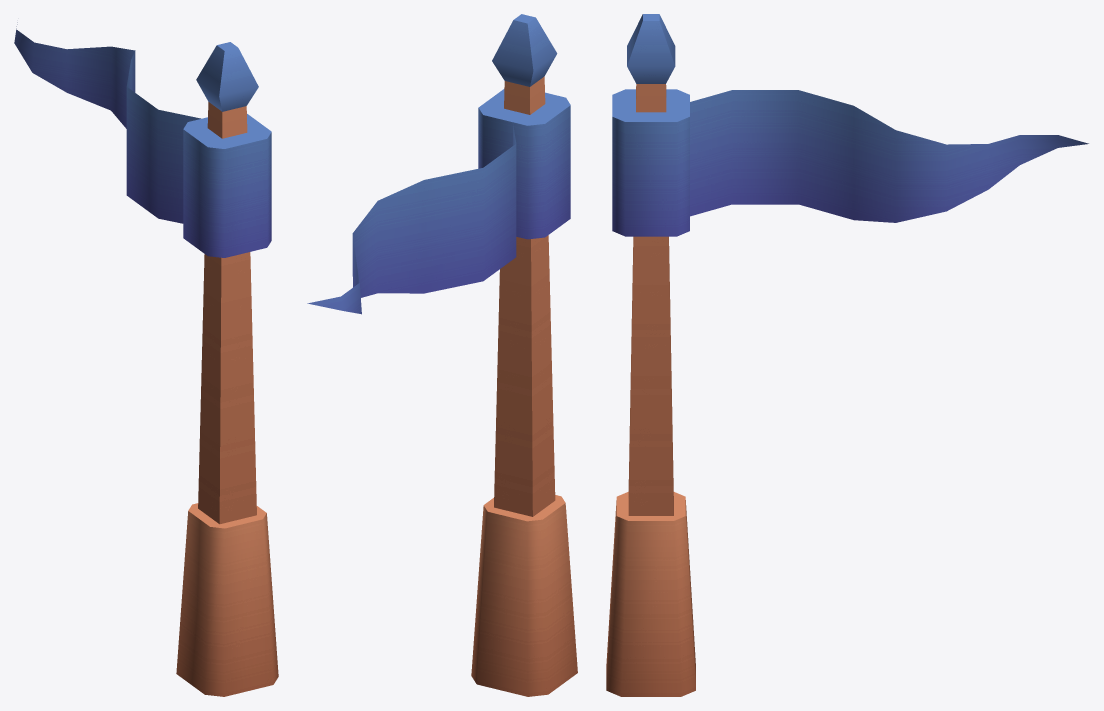
The model's file is flag-pennant.glb.
The picture shows the model from 3 angles, left to right: view 1: azimuth 30°, elevation 25°; view 2: azimuth 150°, elevation 25°; view 3: azimuth 270°, elevation 25°; orthographic projection. The views are drawn at different scales.
Visible parts, largest first — view 1: flag-pennant; view 2: flag-pennant; view 3: flag-pennant.
Part boxes in pixels (left/top/right/bottom): flag-pennant: left=14, top=22, right=278, bottom=696; flag-pennant: left=307, top=14, right=577, bottom=696; flag-pennant: left=606, top=14, right=1088, bottom=696.
Size of the model in its own units: 0.1064 by 0.8656 by 0.5739.
Materials: 1 (1 with a texture image).
